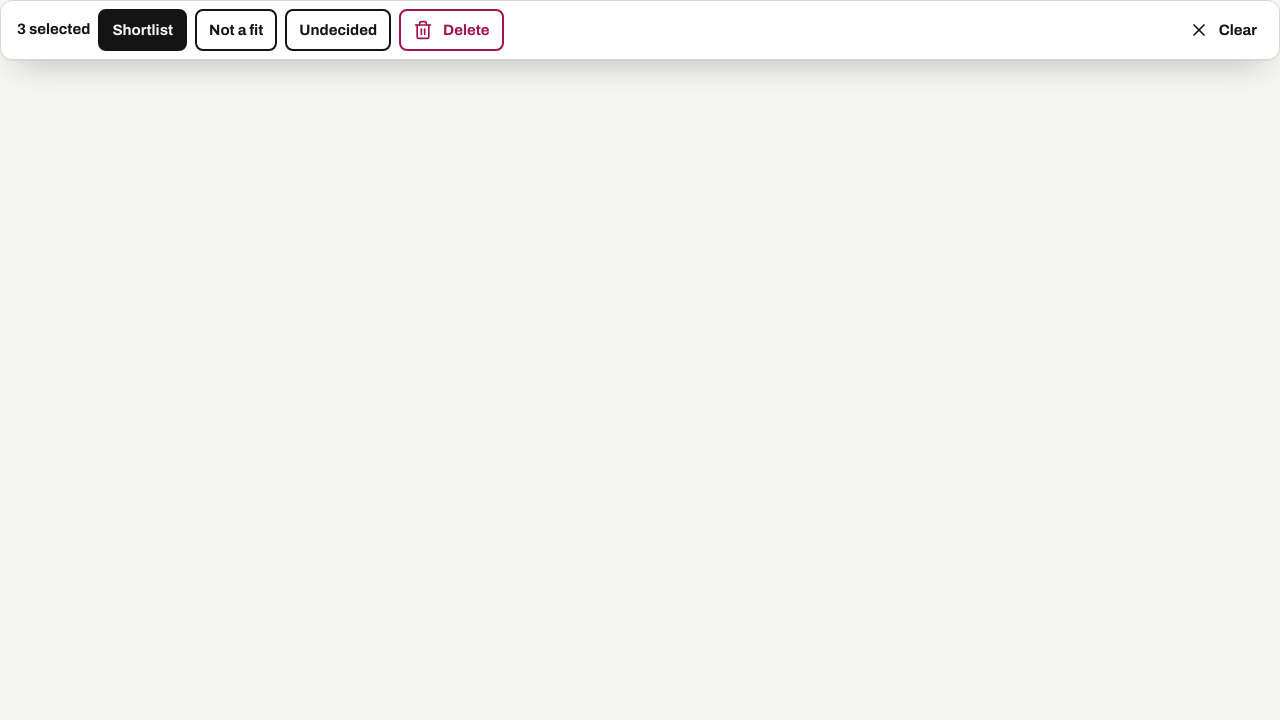
Test case: BulkBar › shows why a delete failed in the dialog
The width and height of the screenshot is (1280, 720).
Click the button with aria-label "Delete 3 candidates": (451, 30) [399,9,504,51]
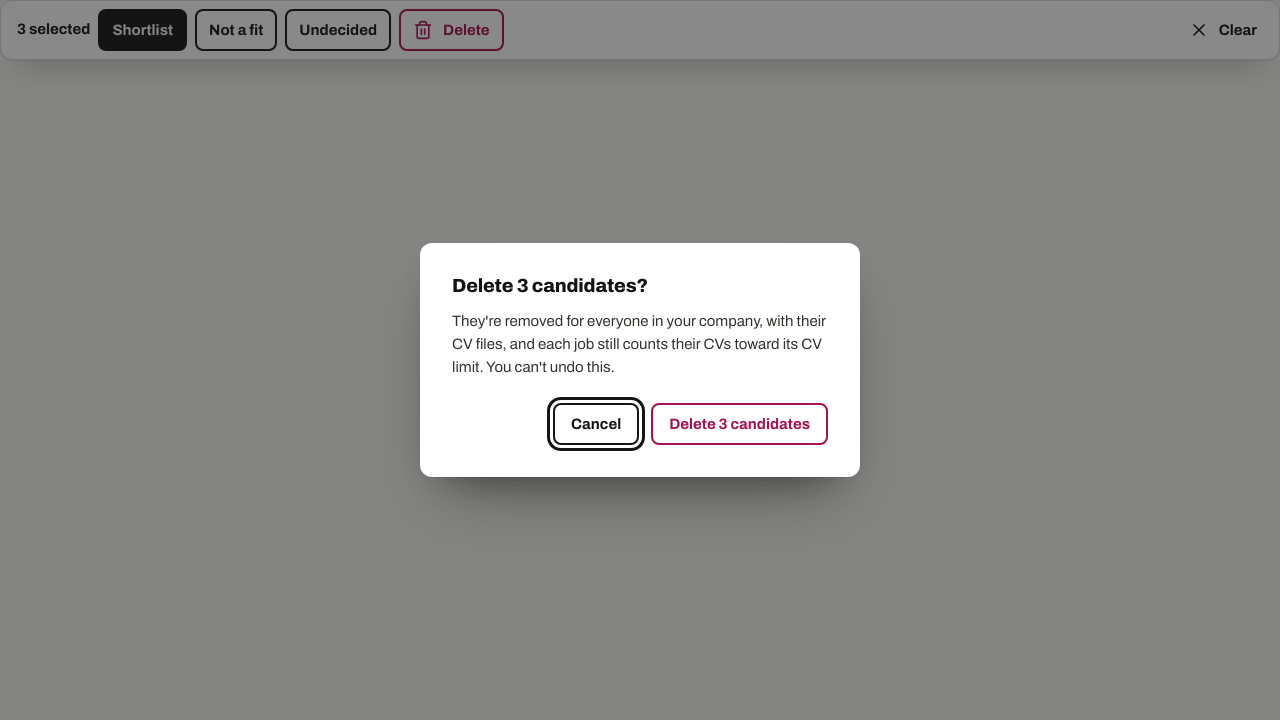
Click the button "Delete 3 candidates": (740, 424) [651,403,828,445]
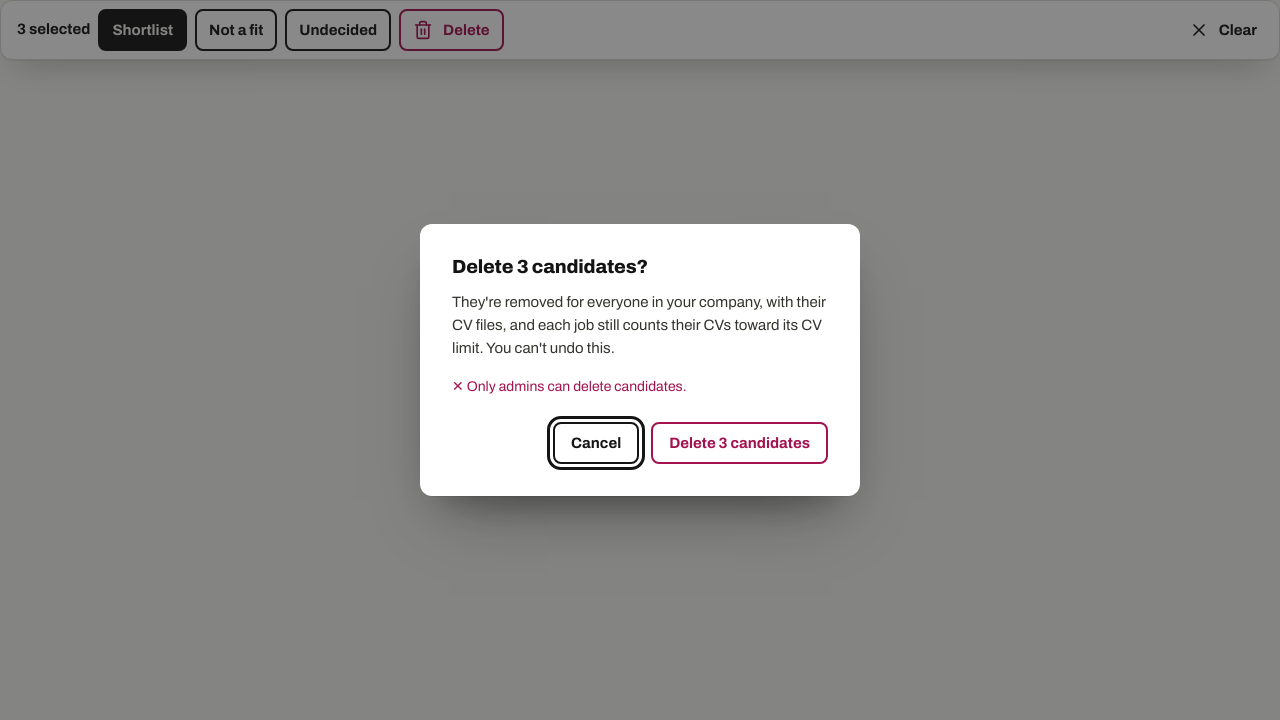
Expected: the message shows "Only admins can delete candidates.", [467,379,687,394]
